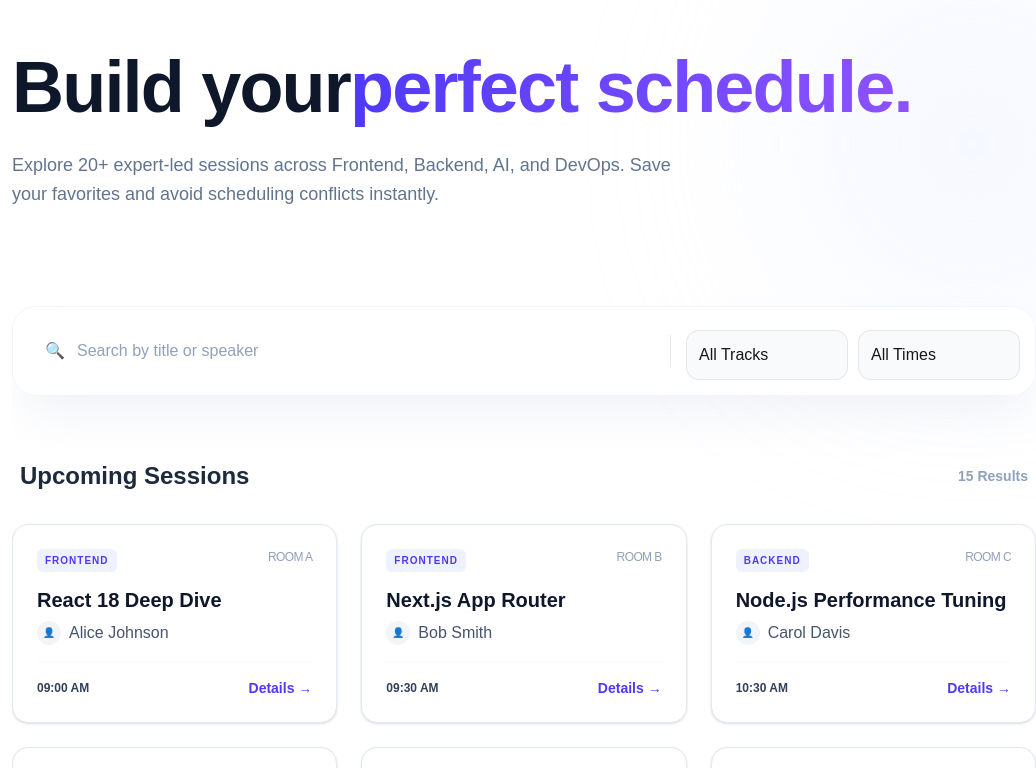
SessionsPage › filters sessions by search input
Type "Alice" into the field with placeholder "Search by title or speaker" at (342, 351), box [29,327,654,375]
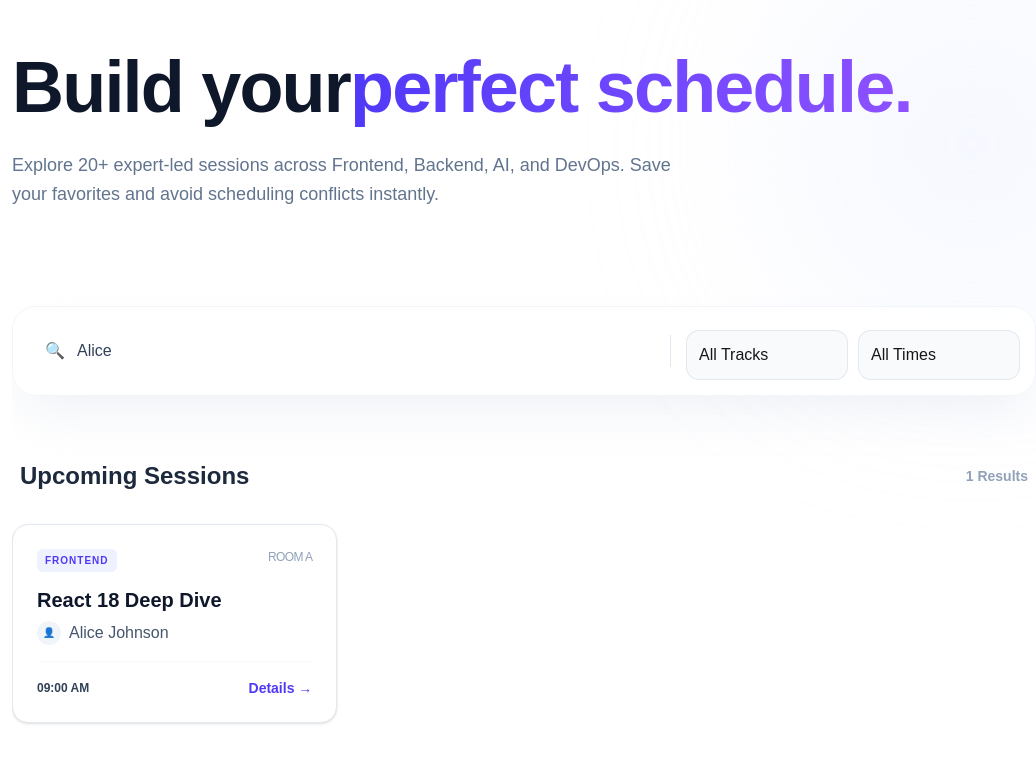
Expected: the heading "React 18 Deep Dive" is shown, [37,589,222,611]
Now the link "Next.js App Router" is gone
